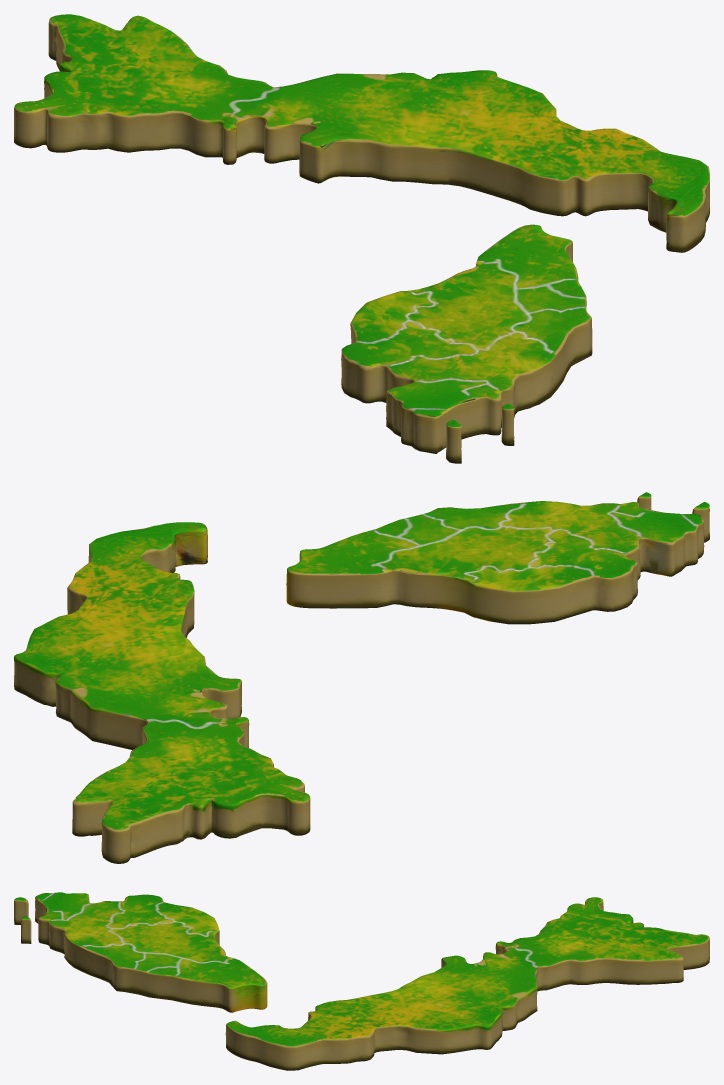
The model's file is MalaysiaMap.fbx.
3 renders of one model, top to bottom at view 1: azimuth 30°, elevation 25°; view 2: azimuth 150°, elevation 25°; view 3: azimuth 270°, elevation 25°, orthographic. The views are drawn at different scales.
Visible parts, largest first — view 1: MalaysiaMap; view 2: MalaysiaMap; view 3: MalaysiaMap.
Part boxes in pixels (bbox=[...]): MalaysiaMap: bbox=[14, 14, 709, 463]; MalaysiaMap: bbox=[14, 492, 709, 863]; MalaysiaMap: bbox=[14, 892, 709, 1070].
Bounding box in the file's own units: 52.82 × 4.03 × 99.94.
